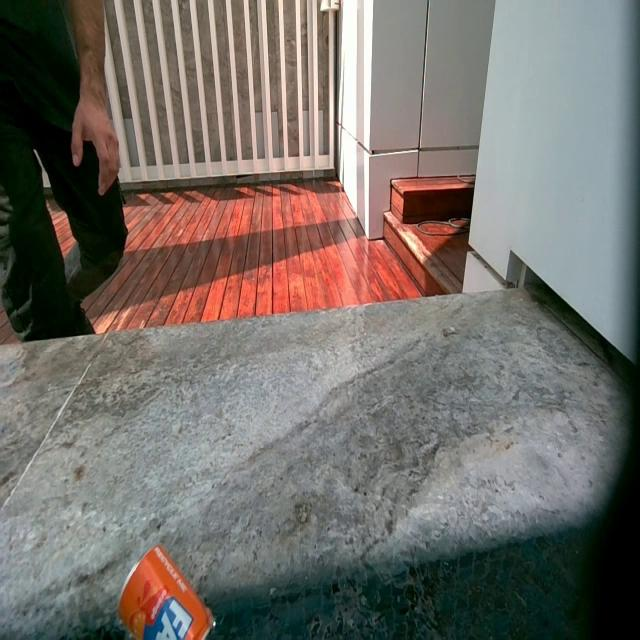Cans: (116, 543, 215, 637)
